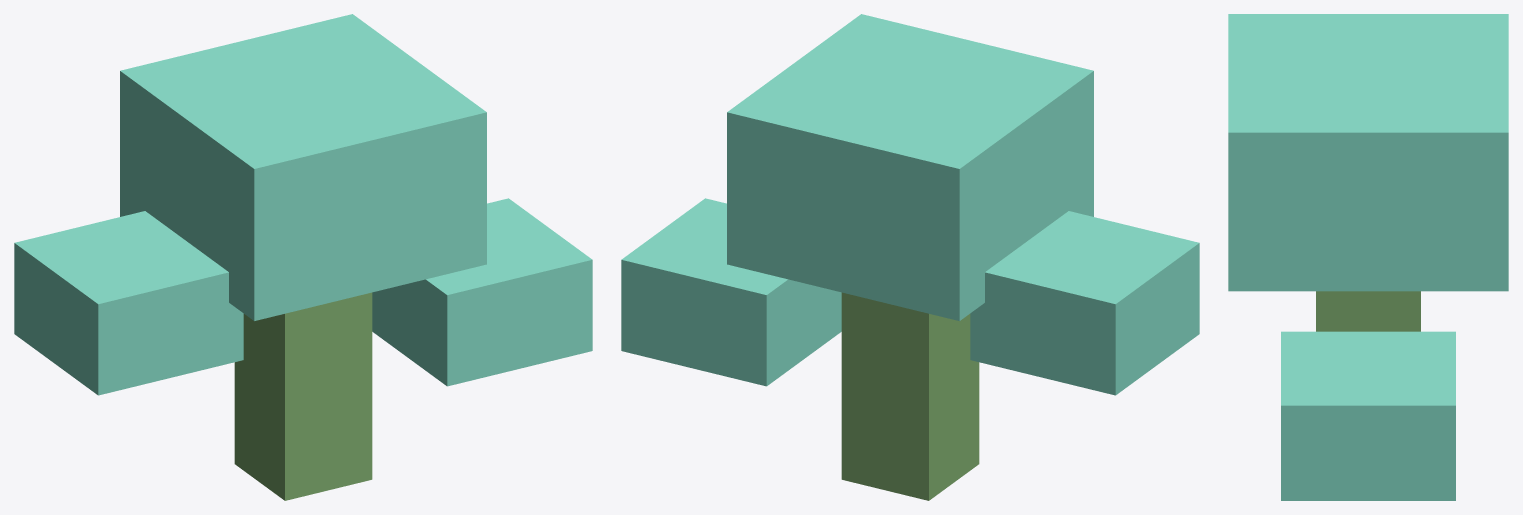
File: Prop_DS_Herb_CacheLeaf_S1_V1.glb
3 views of the same model, side by side, from view 1: azimuth 30°, elevation 25°; view 2: azimuth 150°, elevation 25°; view 3: azimuth 270°, elevation 25° (orthographic). The views are drawn at different scales.
Visible parts, largest first — view 1: Prop_DS_Herb_CacheLeaf_S1_V1; view 2: Prop_DS_Herb_CacheLeaf_S1_V1; view 3: Prop_DS_Herb_CacheLeaf_S1_V1.
Boxes of the visible parts, <box> form: Prop_DS_Herb_CacheLeaf_S1_V1: <box>14,14,592,500</box>; Prop_DS_Herb_CacheLeaf_S1_V1: <box>621,14,1199,500</box>; Prop_DS_Herb_CacheLeaf_S1_V1: <box>1228,14,1508,500</box>.
Bounding box in the file's own units: 0.34 × 0.25 × 0.16.
